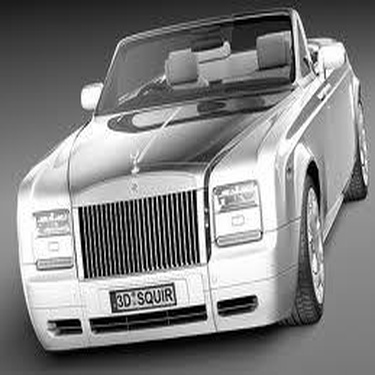car: (5, 8, 369, 373)
